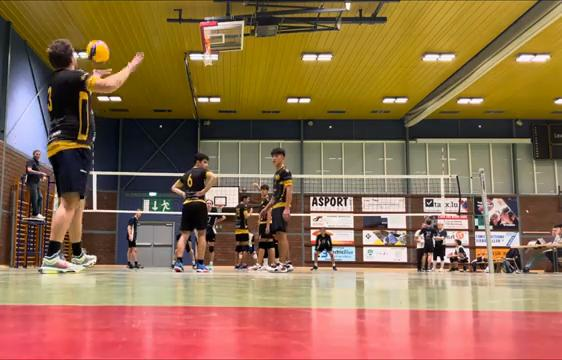battuta: (30, 32, 145, 280)
